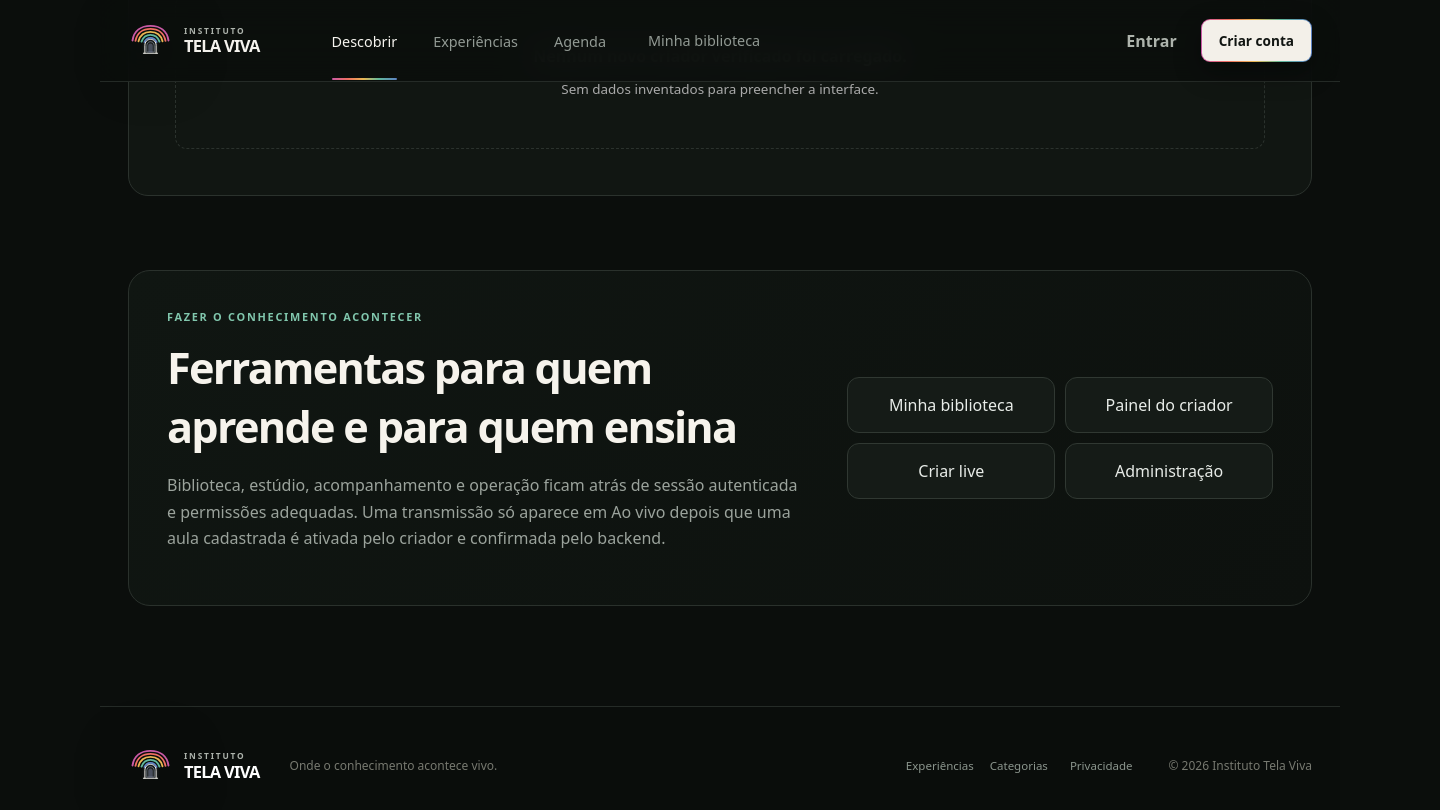
Test: Áreas operacionais sem dados fictícios › abre o painel do criador em estado vazio e identifica rascunhos locais
The width and height of the screenshot is (1440, 810).
(page scrolled)
Click the button "Painel do criador".
click(1169, 405)  # box [1065, 377, 1273, 433]
(page scrolled)
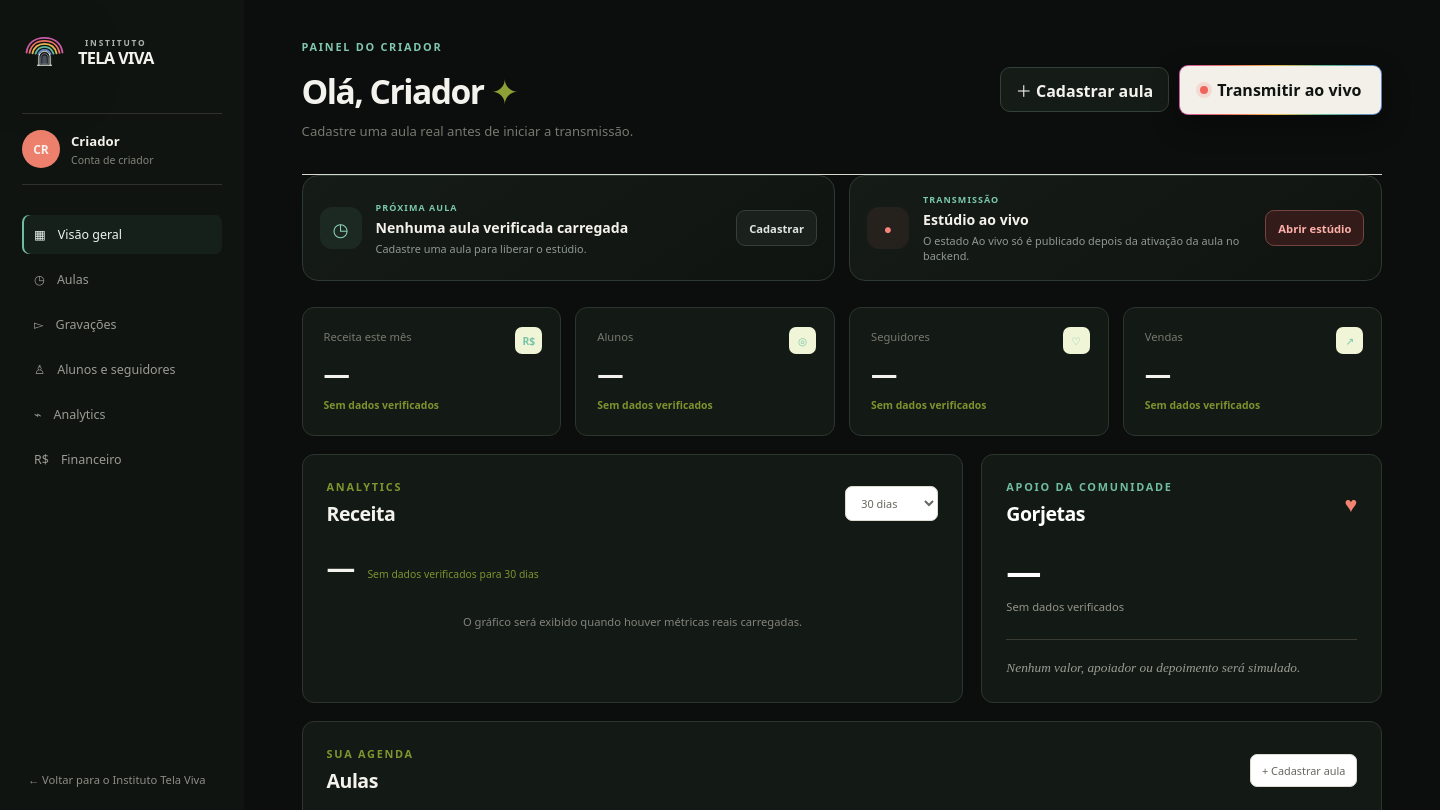
Check: the heading "Olá, Criador ✦" is shown, box [302, 68, 517, 114]
Check: the button with aria-label "Iniciar transmissão" is shown, box [1179, 64, 1382, 114]
Check: the text "Sem dados verificados" below "Receita este mês" is shown, box [324, 398, 439, 412]
